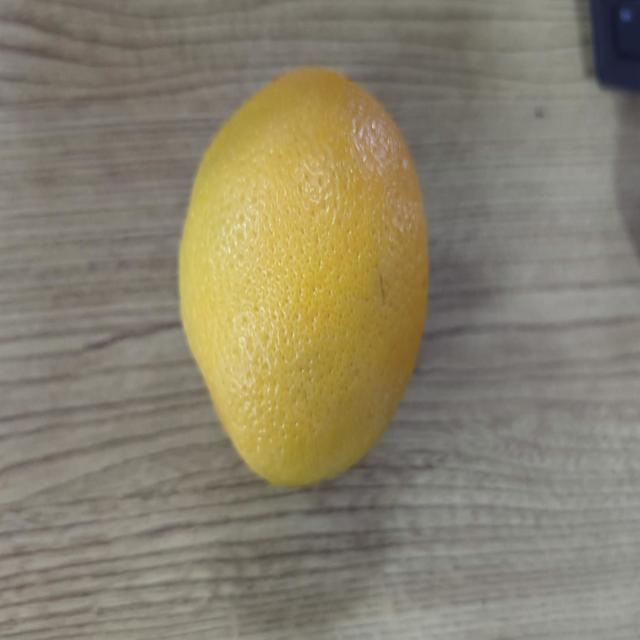Jeruk: (172, 45, 442, 500)
